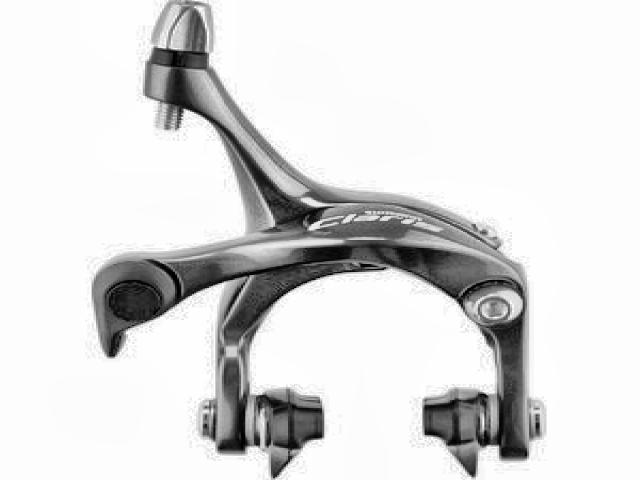rim_brake: (91, 0, 546, 480)
